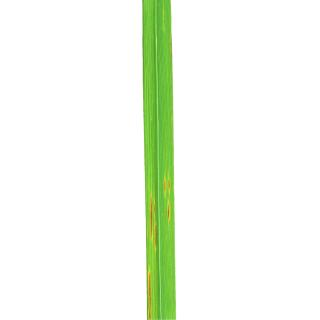Bercak-Cokelat-Sempit: (146, 268, 153, 320), (148, 191, 154, 243), (163, 198, 173, 224), (160, 175, 168, 198)
